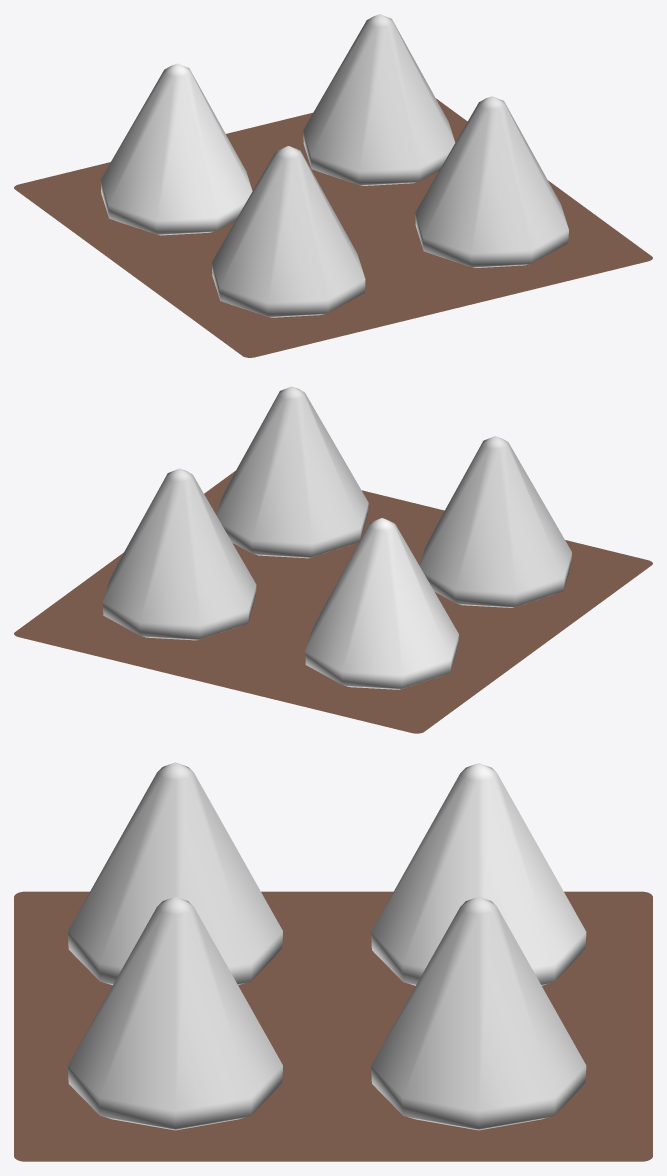
Rendered from 3d_trap_out2.fbx.
3 renders of one model, top to bottom at view 1: azimuth 30°, elevation 25°; view 2: azimuth 150°, elevation 25°; view 3: azimuth 270°, elevation 25°, orthographic. The views are drawn at different scales.
Visible parts, largest first — view 1: Plane - baked, Cone, Cone 1, Cone 2, Cone 3; view 2: Plane - baked, Cone 2, Cone 3, Cone, Cone 1; view 3: Plane - baked, Cone 2, Cone 1, Cone, Cone 3.
Boxes of the visible parts, <box> form: Plane - baked: <box>14,98,652,357</box>; Cone: <box>211,146,365,317</box>; Cone 1: <box>415,96,568,267</box>; Cone 2: <box>303,14,455,185</box>; Cone 3: <box>100,63,252,235</box>; Plane - baked: <box>14,470,652,733</box>; Cone 2: <box>102,468,256,640</box>; Cone 3: <box>305,518,458,689</box>; Cone: <box>419,436,571,607</box>; Cone 1: <box>216,386,368,558</box>; Plane - baked: <box>14,891,652,1161</box>; Cone 2: <box>371,896,586,1130</box>; Cone 1: <box>68,896,282,1130</box>; Cone: <box>68,762,282,985</box>; Cone 3: <box>371,763,586,985</box>.
Bounding box in the file's own units: 200 × 200 × 67.78.
